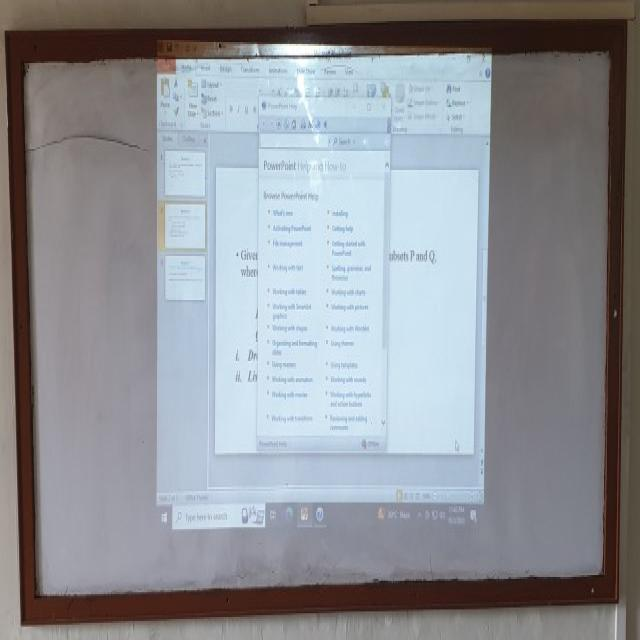Slide: (155, 38, 493, 539)
White-board: (13, 32, 620, 610)
